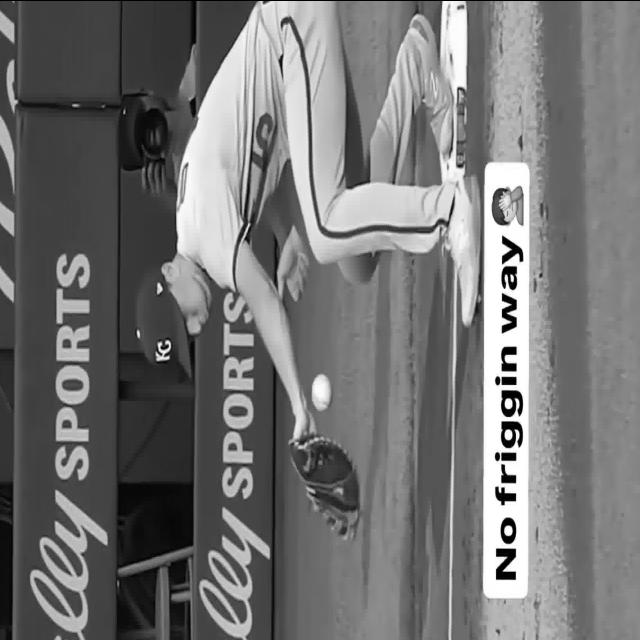base: (440, 0, 468, 180)
baseball: (311, 373, 331, 409)
baseball_glove: (289, 436, 359, 540)
shoe: (409, 13, 454, 155), (444, 173, 481, 327)
